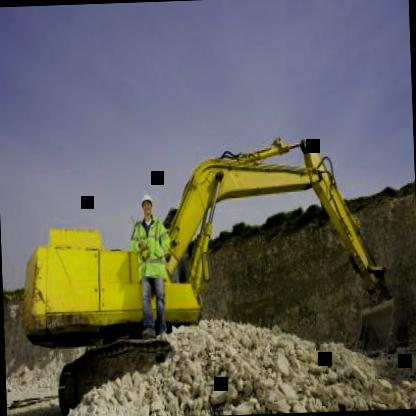helmet: (139, 194, 154, 221)
